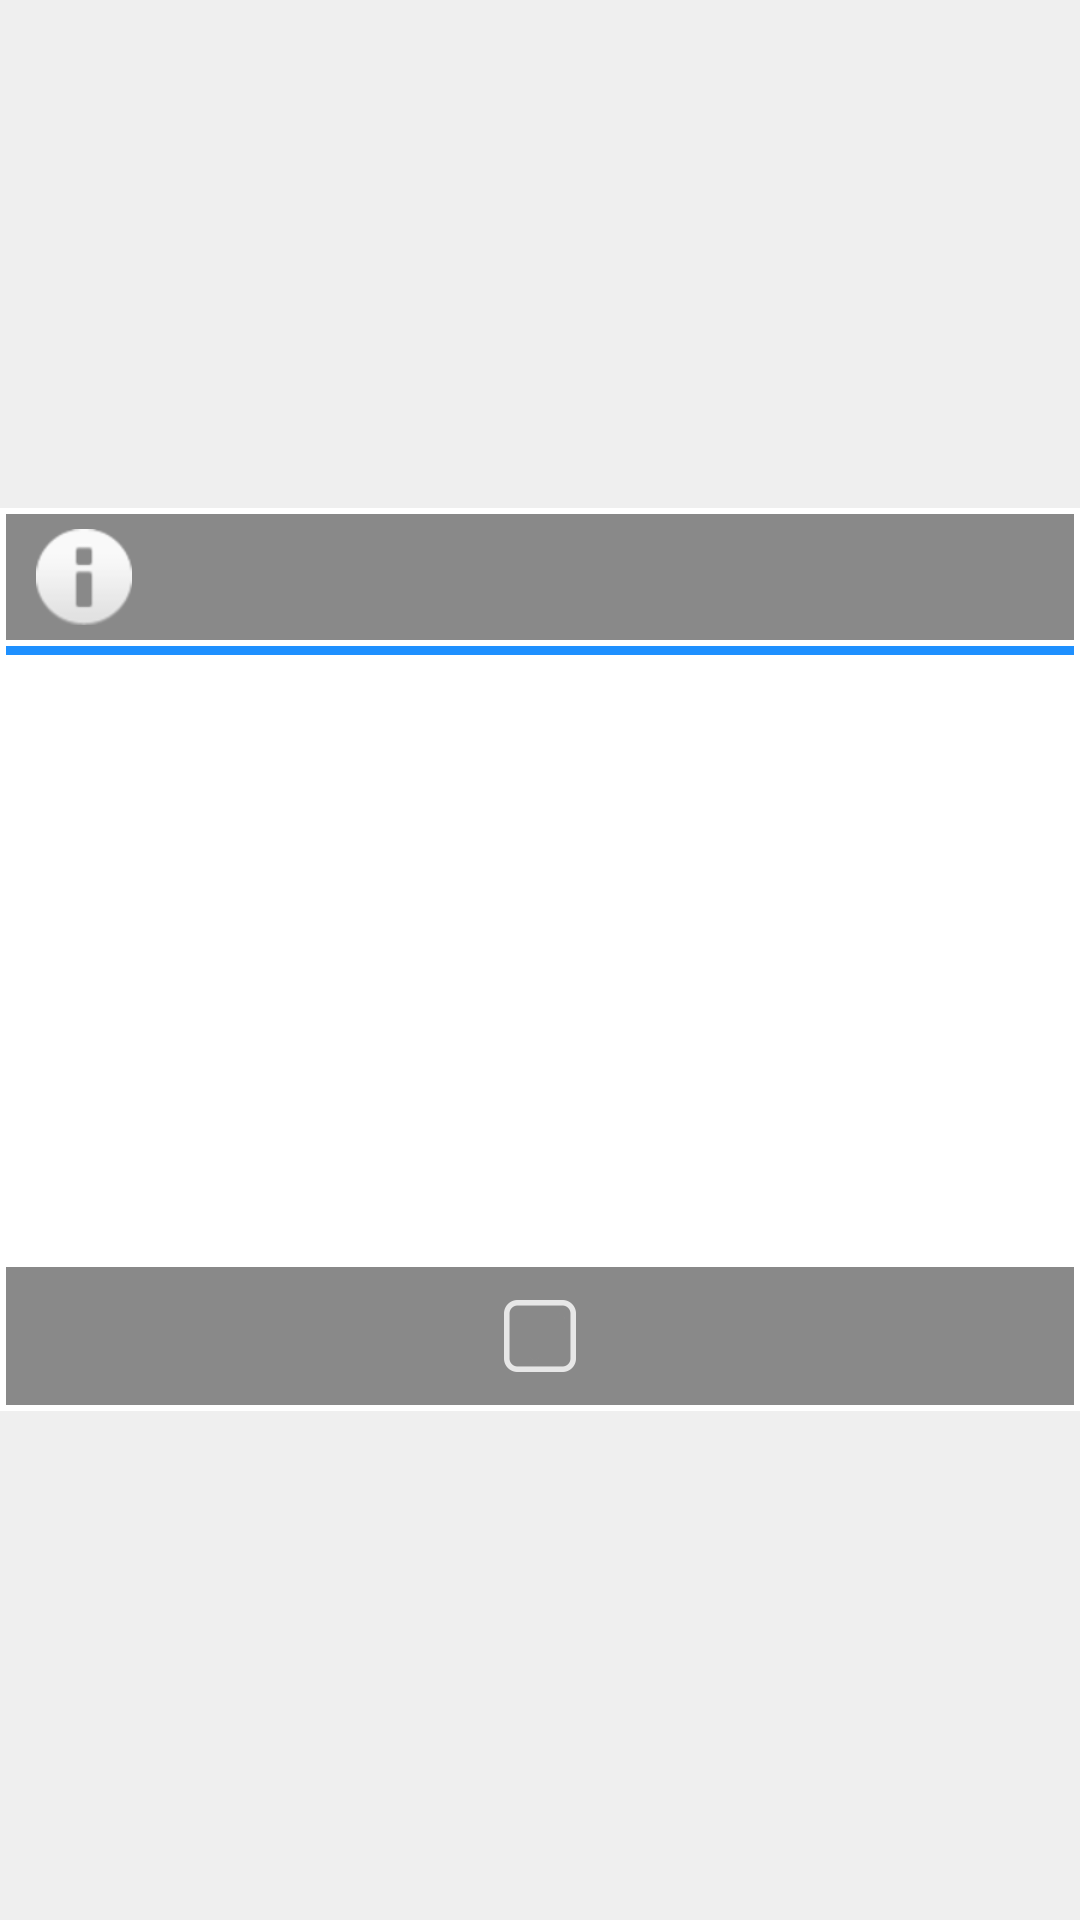

Point at icon controls on the screen. Image size 1080px x 1920px, points as [x,y].
checkbox empty: [540,1336]
info: [84,577]
